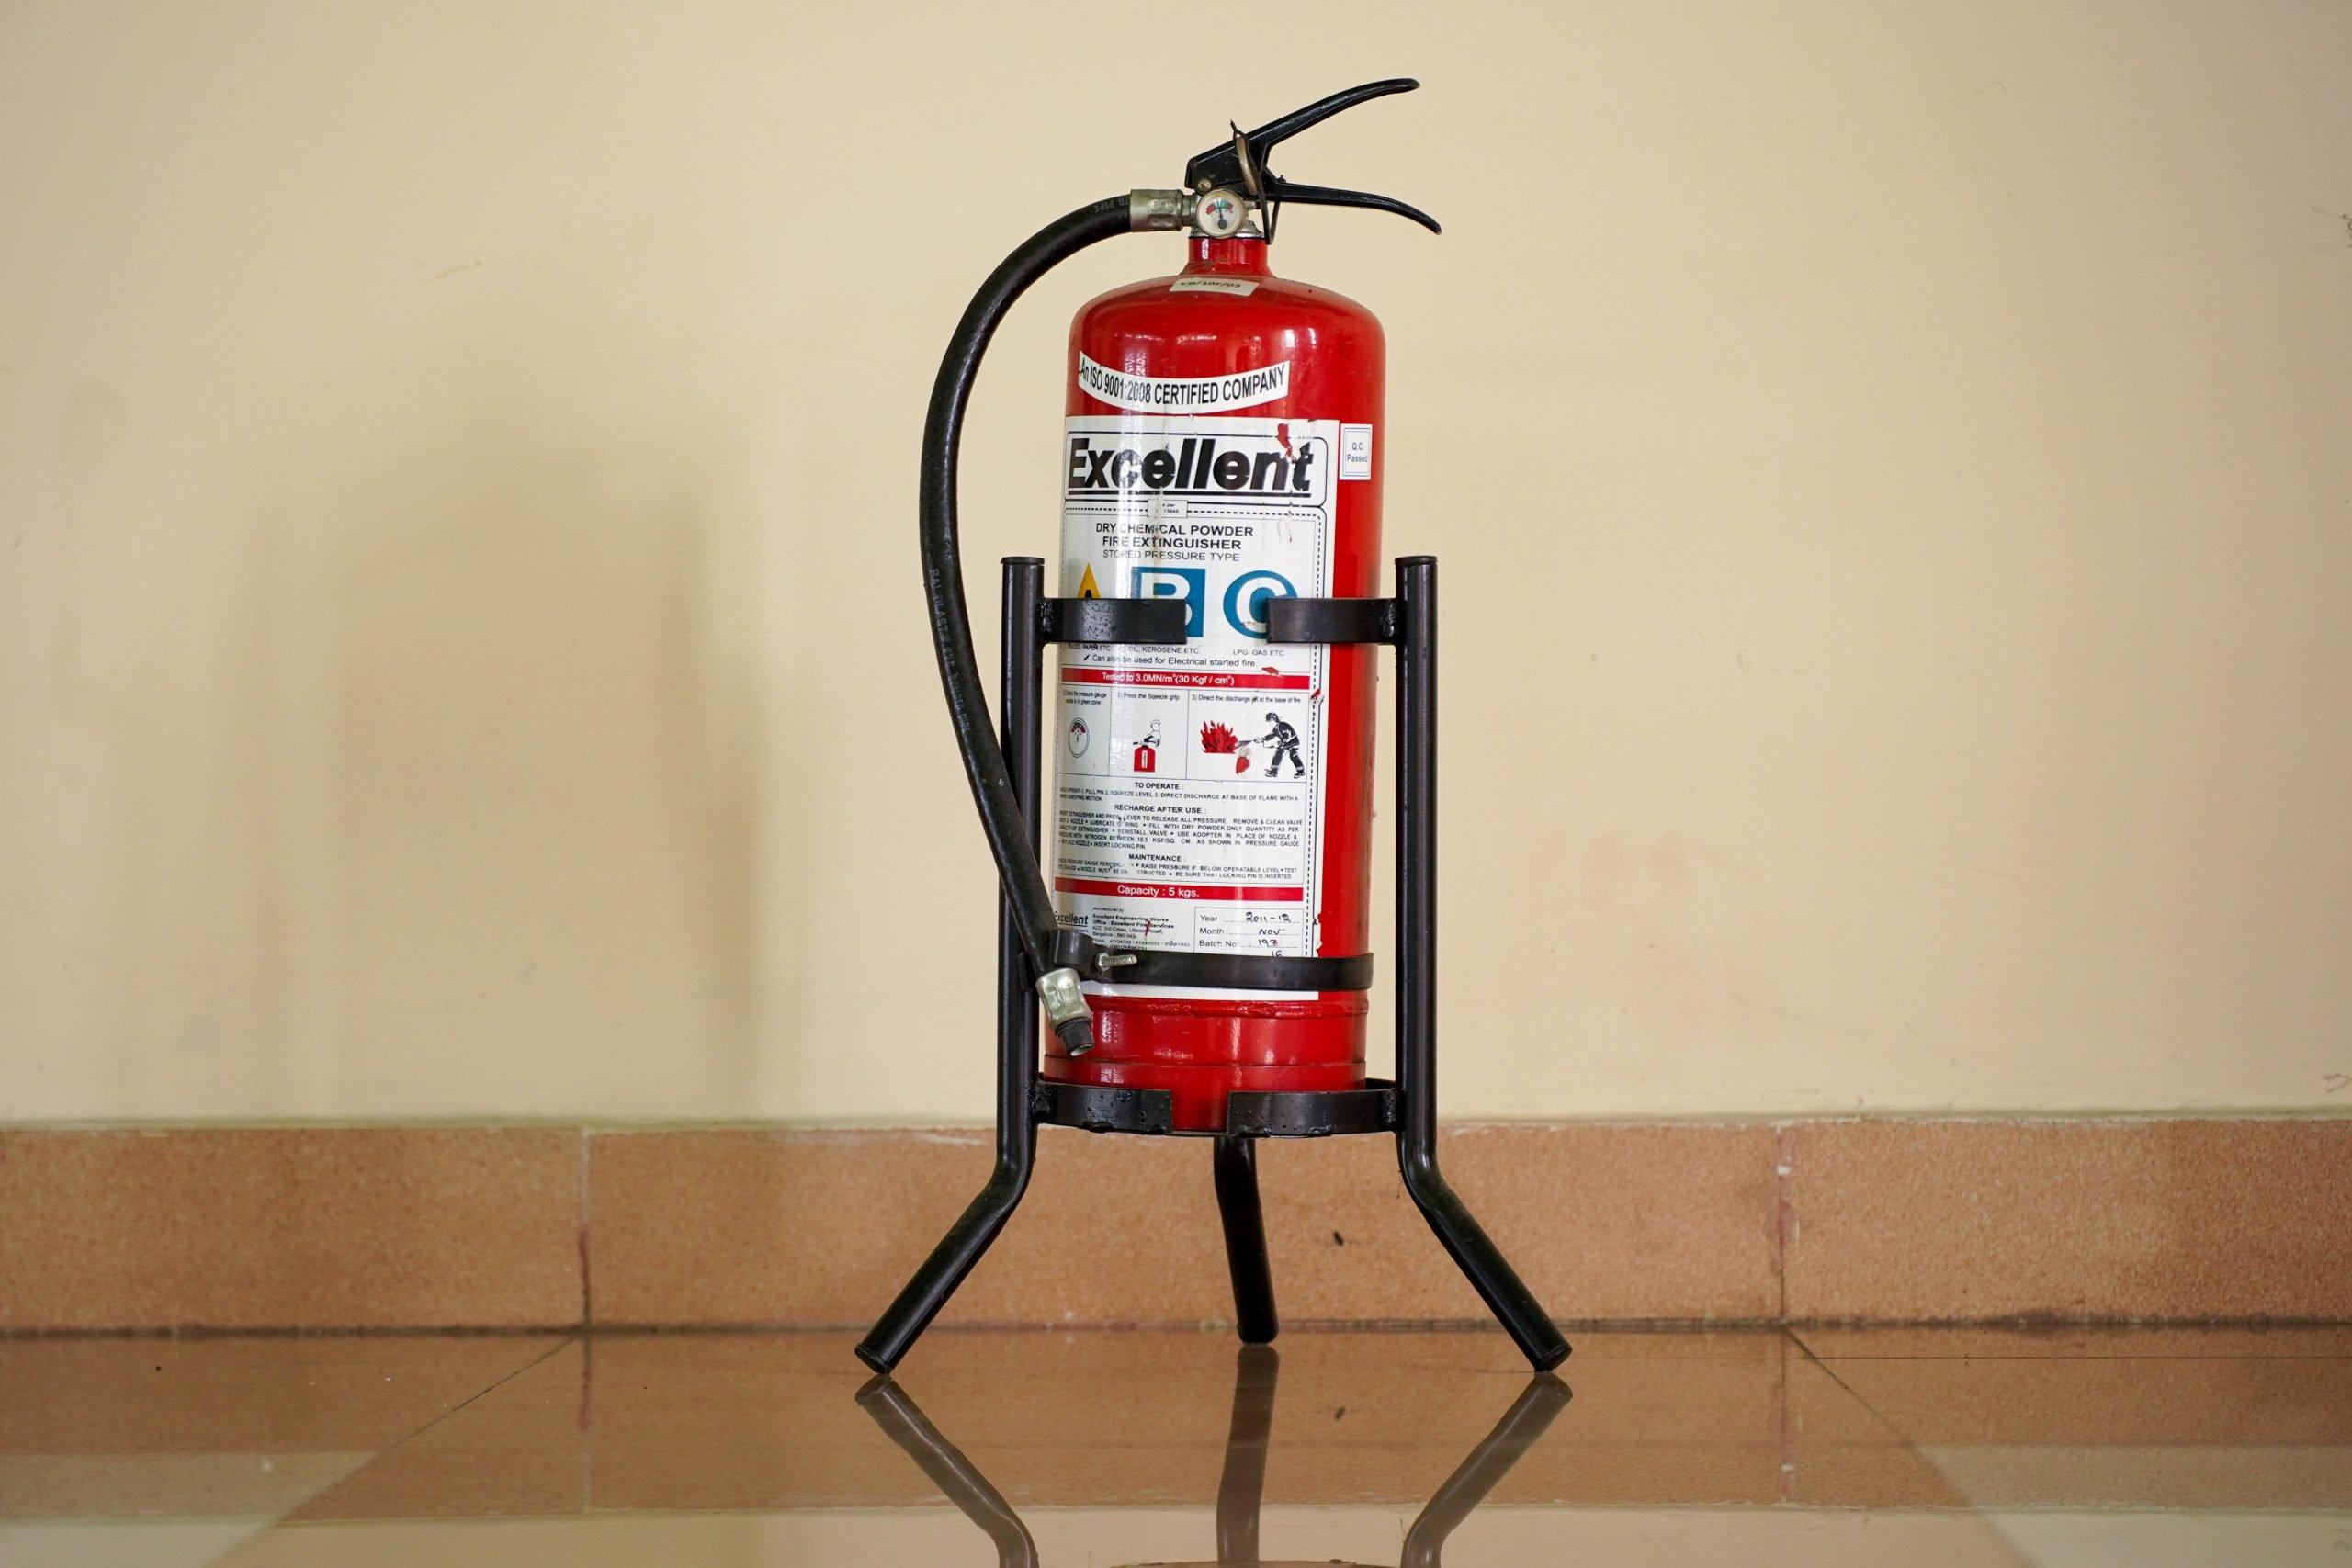Fire Extinguisher: (887, 42, 1479, 1171)
